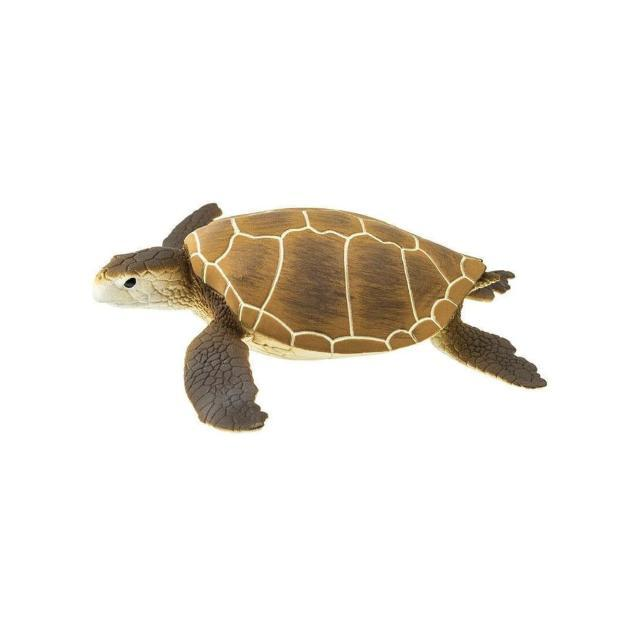turtle: (90, 200, 549, 434)
